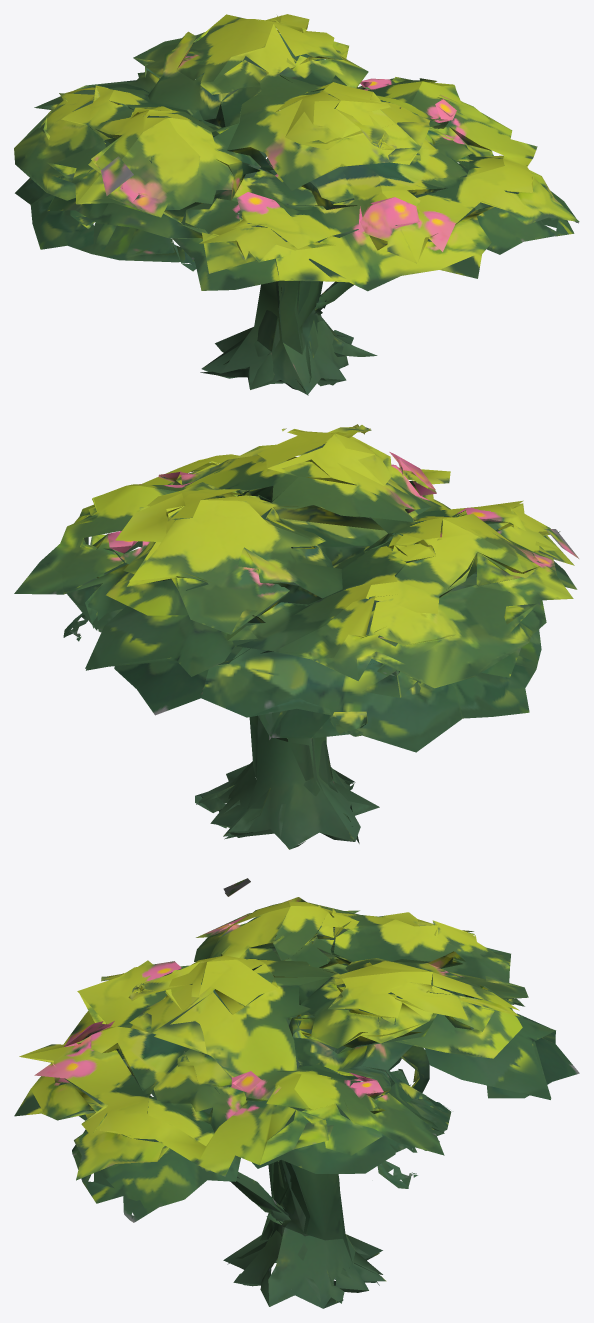
Rendered from bush.glb.
The picture shows the model from 3 angles, top to bottom: view 1: azimuth 30°, elevation 25°; view 2: azimuth 150°, elevation 25°; view 3: azimuth 270°, elevation 25°; orthographic projection. The views are drawn at different scales.
Visible parts, largest first — view 1: Body; view 2: Body; view 3: Body.
Part boxes in pixels (<box>): Body: <box>14,14,579,395</box>; Body: <box>14,424,578,849</box>; Body: <box>14,878,579,1308</box>.
Size of the model in its own units: 1.82 by 1.19 by 1.9.
Materials: 1 (1 with a texture image).
